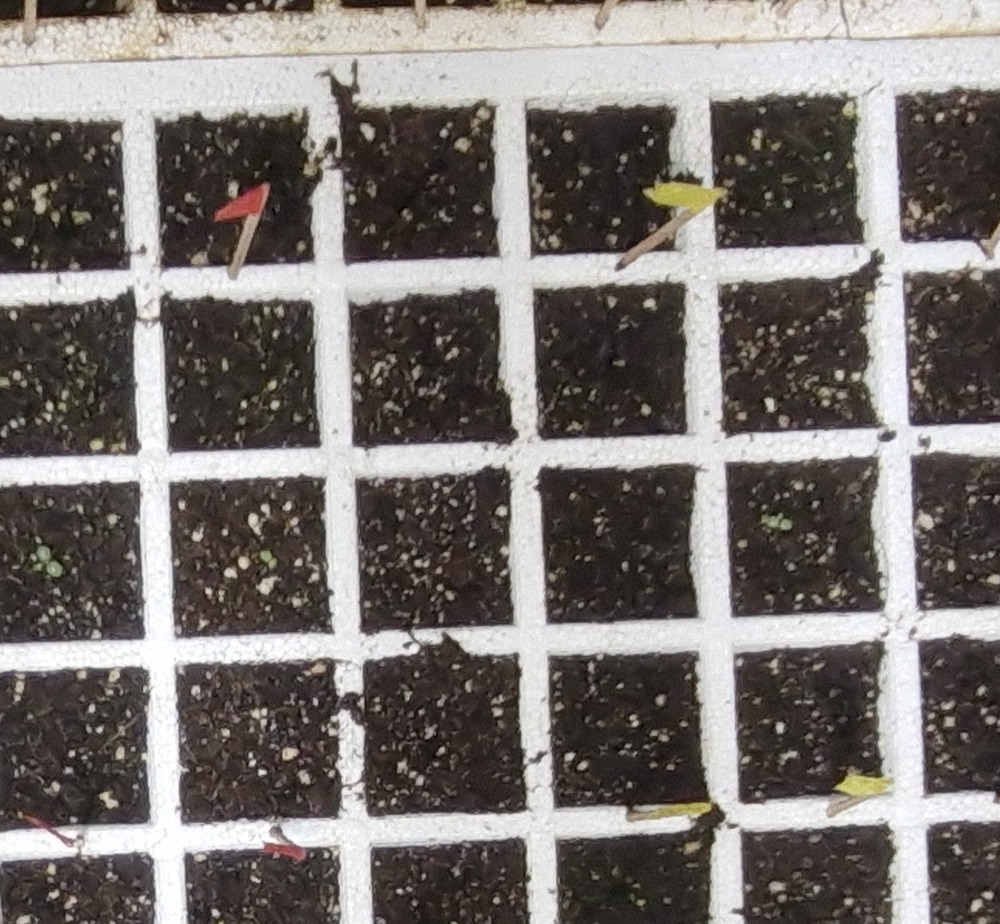Folha: (36, 546, 52, 563), (46, 561, 63, 576), (781, 519, 793, 530), (768, 516, 779, 528), (261, 551, 272, 562), (269, 559, 278, 570)
Germinacao: (37, 547, 63, 577), (767, 516, 793, 530), (260, 551, 277, 570)
